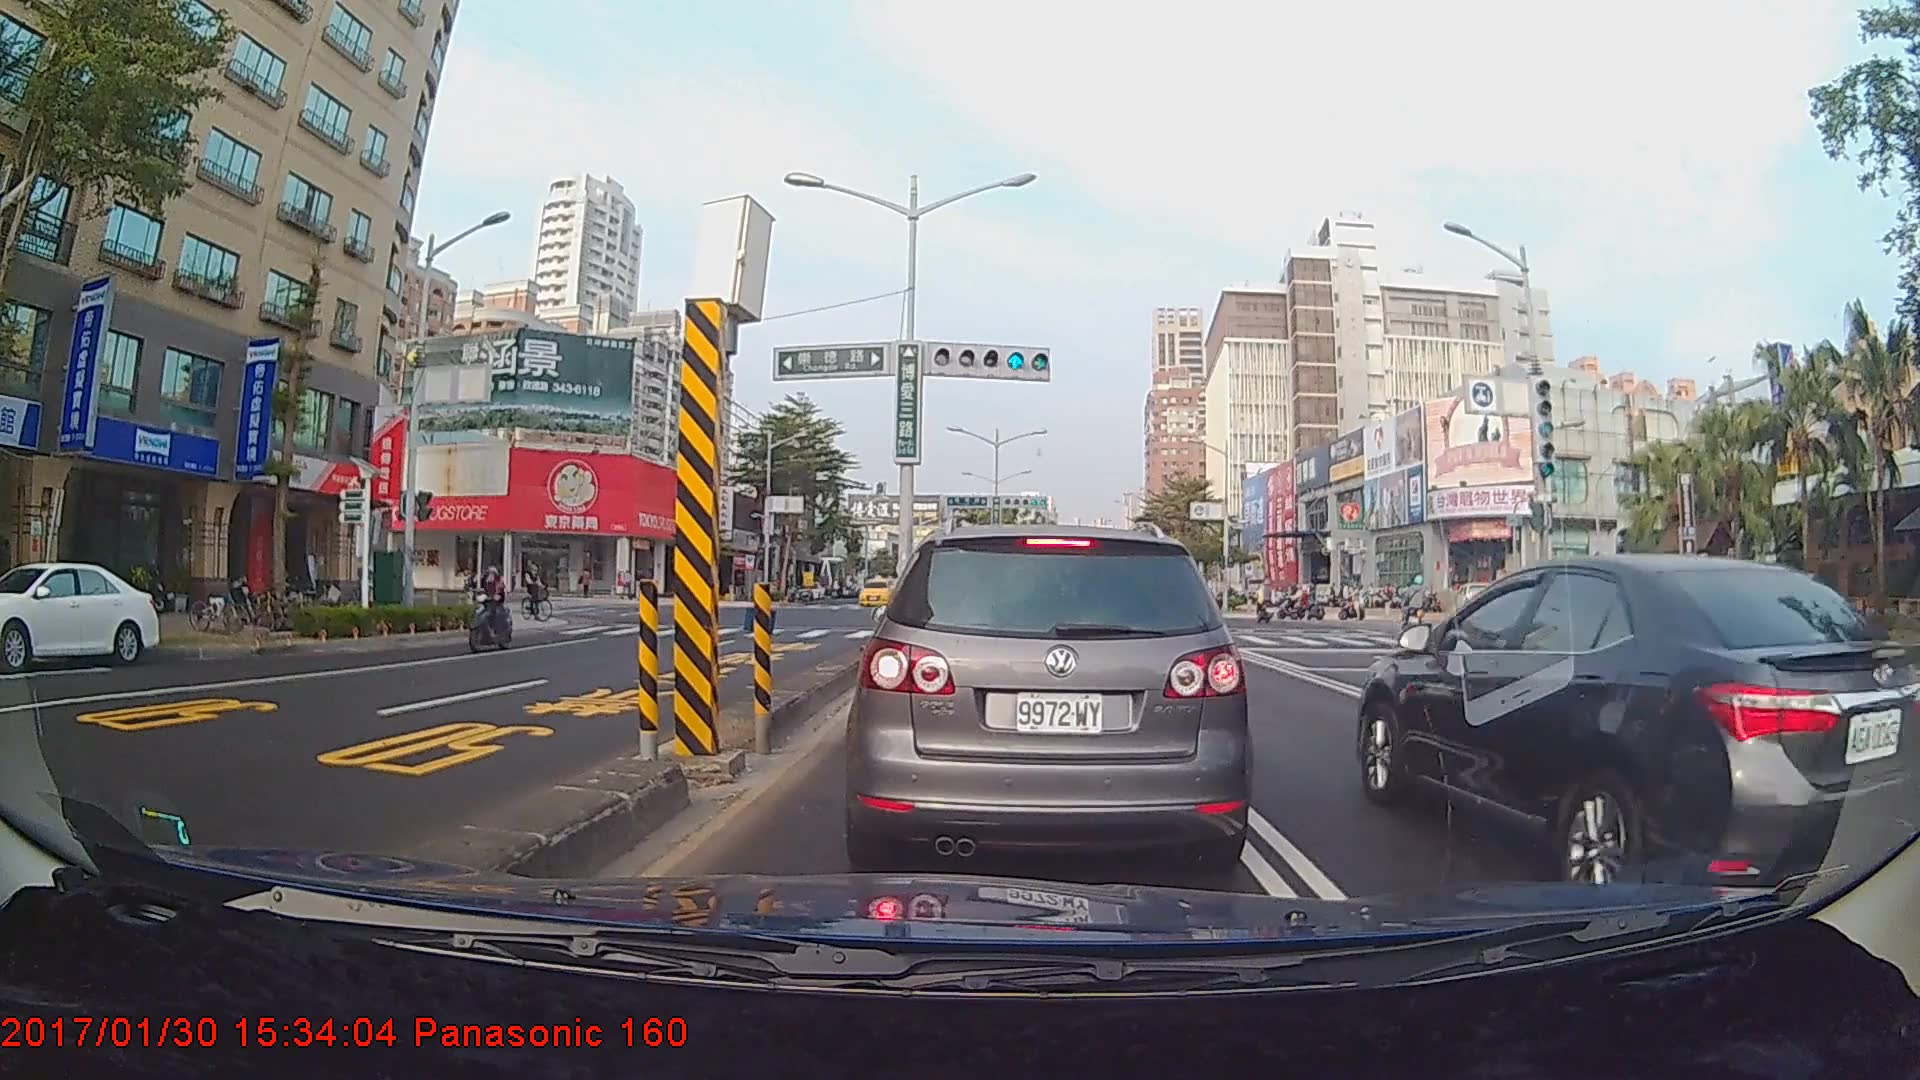rider: (462, 564, 519, 656), (1394, 574, 1435, 642), (518, 559, 561, 623), (1247, 574, 1275, 631)
vehicle: (1350, 546, 1920, 897), (856, 520, 1244, 873), (0, 561, 162, 671), (857, 577, 894, 606)
